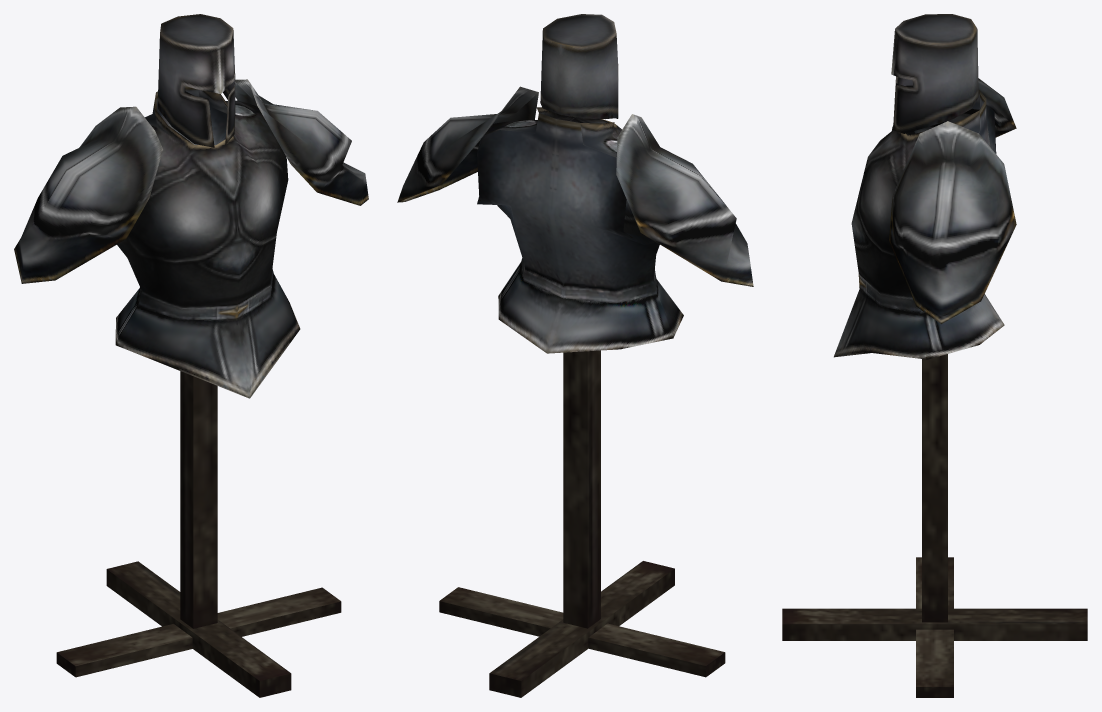
The model's file is GY_kaijia001.fbx.
3 views of the same model, side by side, from view 1: azimuth 30°, elevation 25°; view 2: azimuth 150°, elevation 25°; view 3: azimuth 270°, elevation 25° (orthographic).
Visible parts, largest first — view 1: GY_kaijia001; view 2: GY_kaijia001; view 3: GY_kaijia001.
Boxes of the visible parts, x1,y1,x2,y2 form: GY_kaijia001: (14,14,368,697); GY_kaijia001: (397,14,753,697); GY_kaijia001: (782,14,1087,697).
Bounding box in the file's own units: 99.11 × 165 × 75.73.
